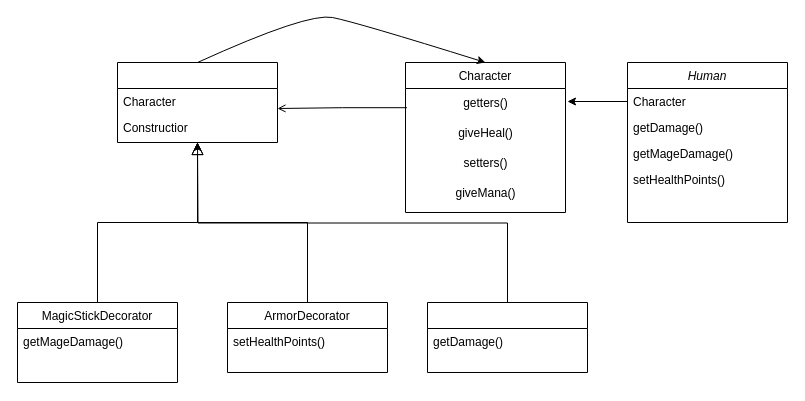
Some shapes in this 805 by 401 pixel diagram are drawn without their labels. The box of each missing label's shape, as (x1, y1, x2, y2) in pixels:
CharacterDecorator: (116, 62, 278, 142)
WeaponDecorator: (426, 302, 588, 372)
